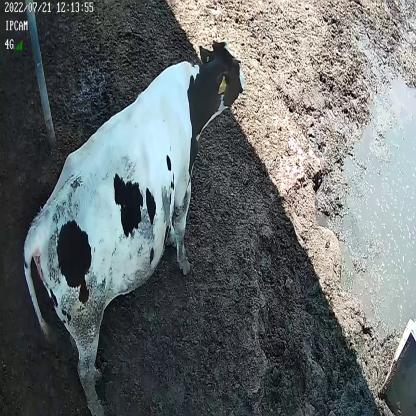cow: (21, 34, 248, 416)
